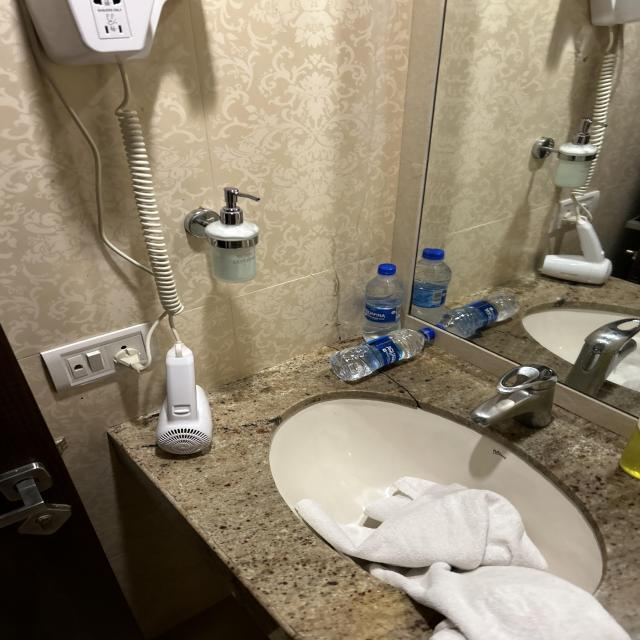mess: (55, 306, 640, 640)
